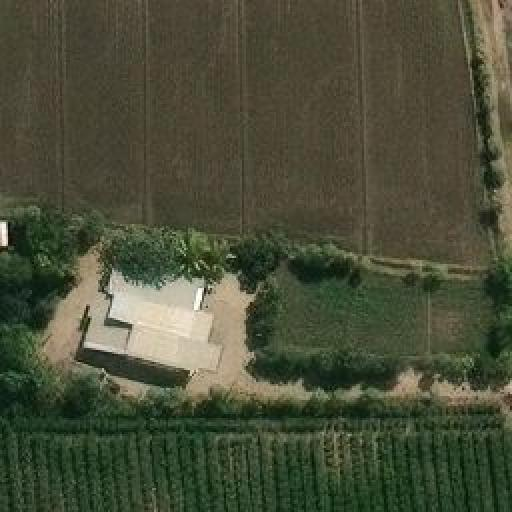manzanas: (80, 263, 223, 379)
